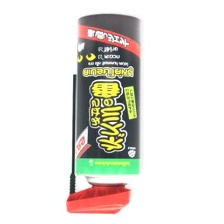aerosol_cans: (61, 9, 149, 219)
